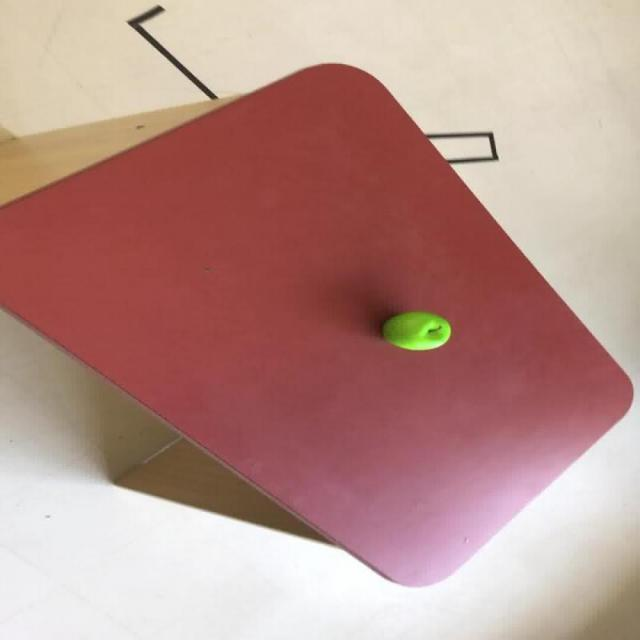Apple: (380, 311, 451, 350)
